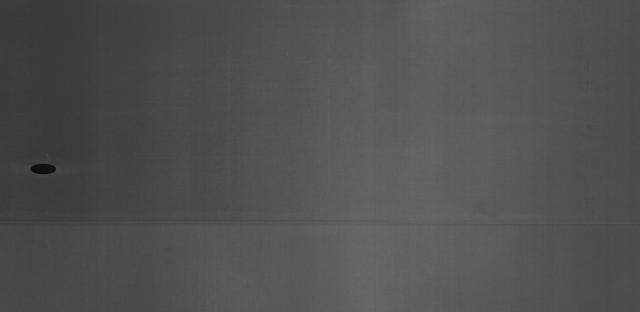punching_hole: (26, 161, 62, 178)
welding_line: (6, 212, 633, 236)
